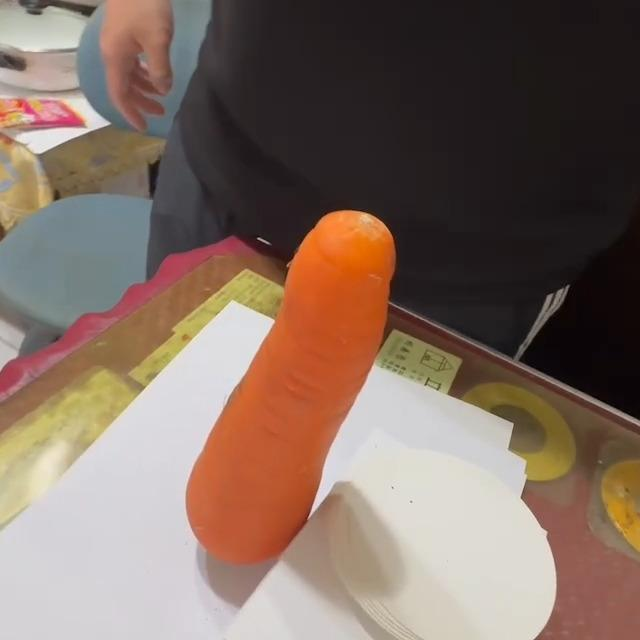carrot: (184, 210, 400, 568)
